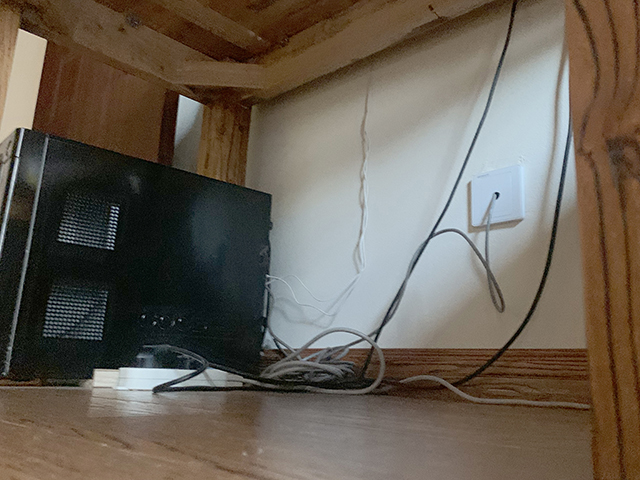wire: (88, 1, 587, 409)
